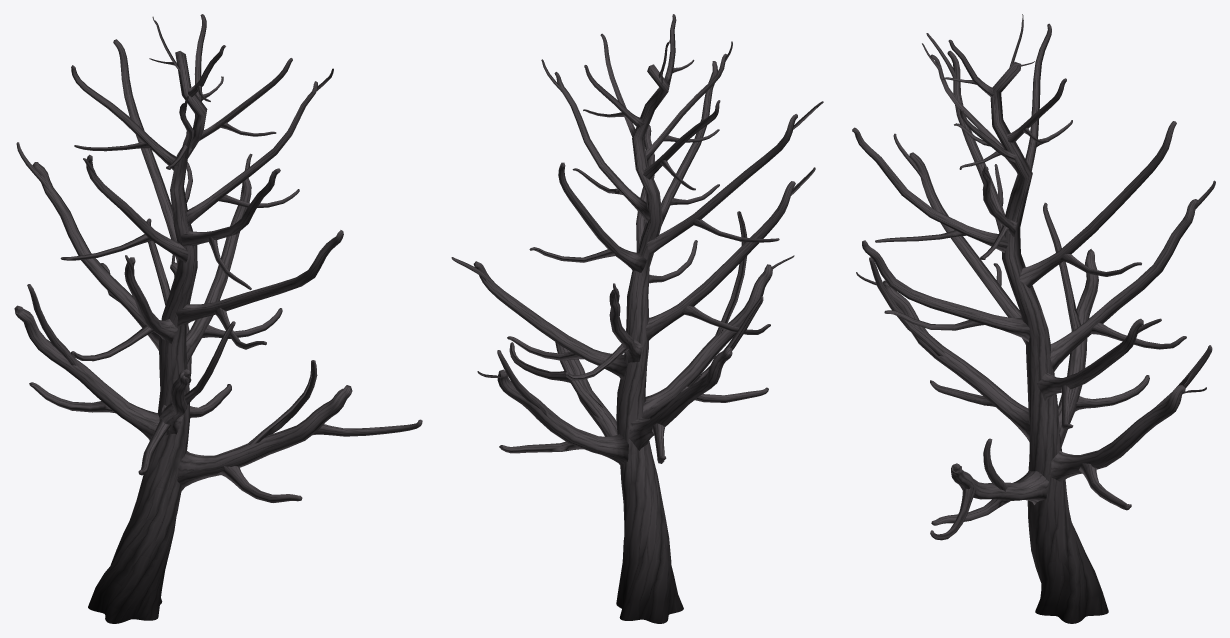
Rendered from dead_tree_2.glb.
3 renders of one model, left to right at view 1: azimuth 30°, elevation 25°; view 2: azimuth 150°, elevation 25°; view 3: azimuth 270°, elevation 25°, orthographic. The views are drawn at different scales.
Parts seen in each view (by area): view 1: DeadTree_2; view 2: DeadTree_2; view 3: DeadTree_2.
Boxes of the visible parts, x1=… form: DeadTree_2: x1=14, y1=14, x2=422, y2=623; DeadTree_2: x1=451, y1=14, x2=823, y2=623; DeadTree_2: x1=852, y1=14, x2=1215, y2=623.
Bounding box in the file's own units: 6.73 × 11.49 × 6.38.
1 material, 1 textured.
